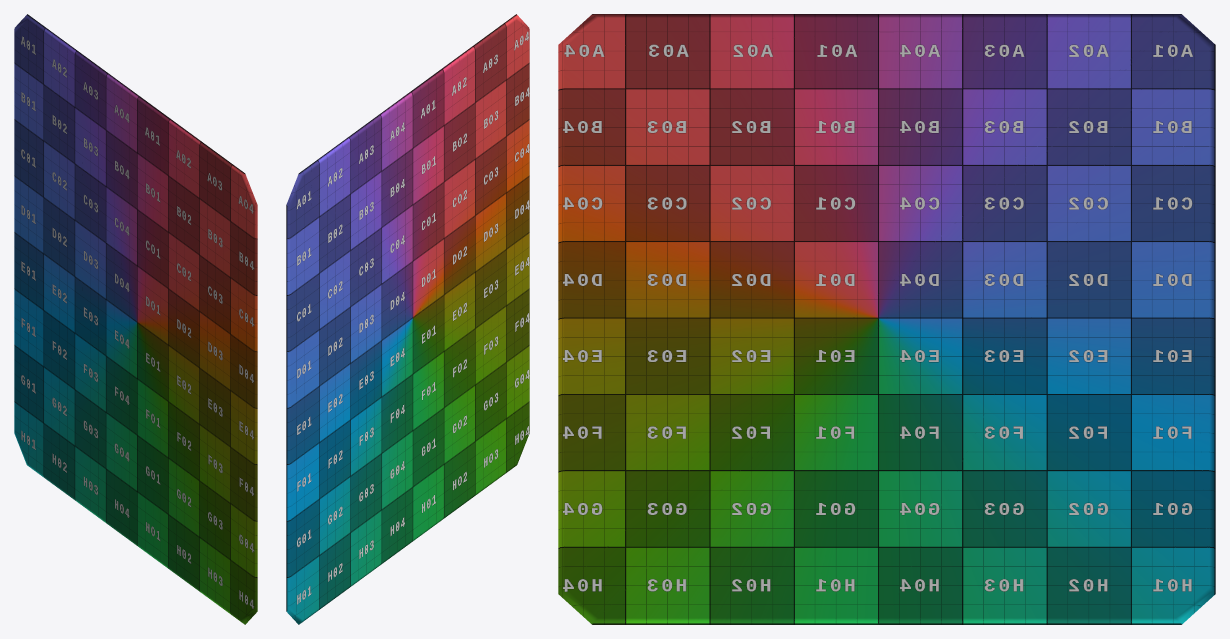
Rendered from Screen.fbx.
3 renders of one model, left to right at view 1: azimuth 30°, elevation 25°; view 2: azimuth 150°, elevation 25°; view 3: azimuth 270°, elevation 25°, orthographic. The views are drawn at different scales.
Visible parts, largest first — view 1: SCD_low; view 2: SCD_low; view 3: SCD_low.
Part boxes in pixels (left/top/right/bottom): SCD_low: left=14, top=14, right=257, bottom=624; SCD_low: left=286, top=14, right=529, bottom=624; SCD_low: left=558, top=14, right=1215, bottom=624.
Size of the model in its own units: 0.3229 by 63.08 by 61.5.
